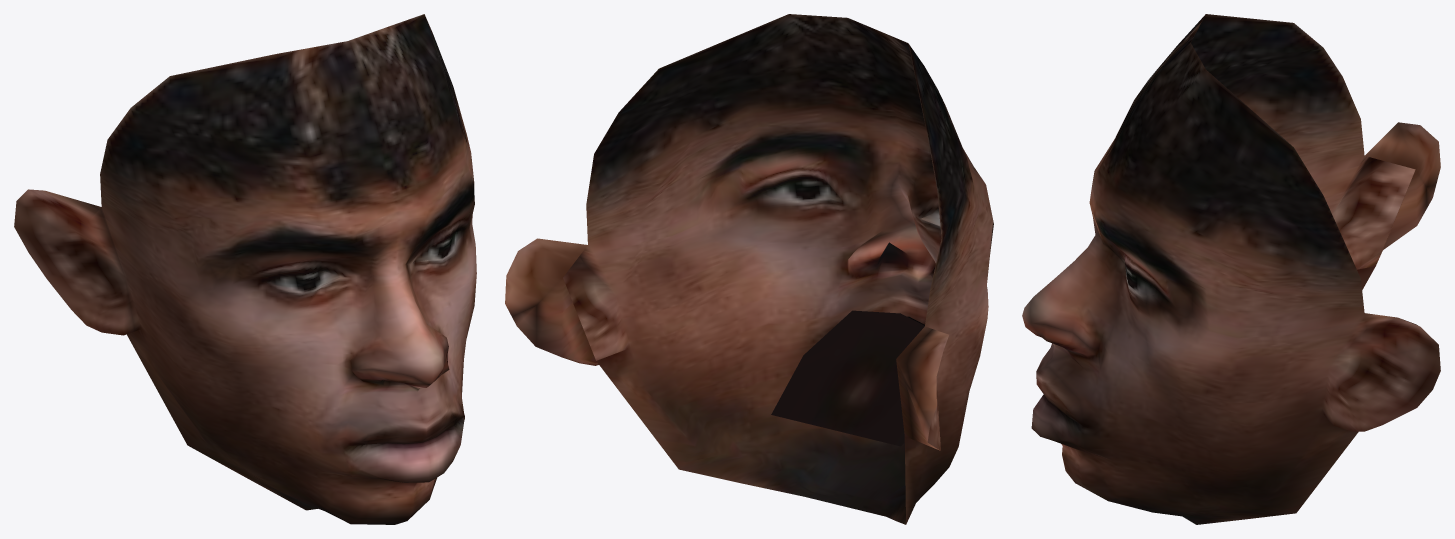
File: esp-yamal.glb
3 views of the same model, side by side, from view 1: azimuth 30°, elevation 25°; view 2: azimuth 150°, elevation 25°; view 3: azimuth 270°, elevation 25° (orthographic). The views are drawn at different scales.
Visible parts, largest first — view 1: esp-yamal; view 2: esp-yamal; view 3: esp-yamal.
Part boxes in pixels (<box>): esp-yamal: <box>14,14,476,524</box>; esp-yamal: <box>505,14,993,524</box>; esp-yamal: <box>1022,14,1440,524</box>.
Size of the model in its own units: 0.175 by 0.1885 by 0.1544.
1 material, 1 textured.
